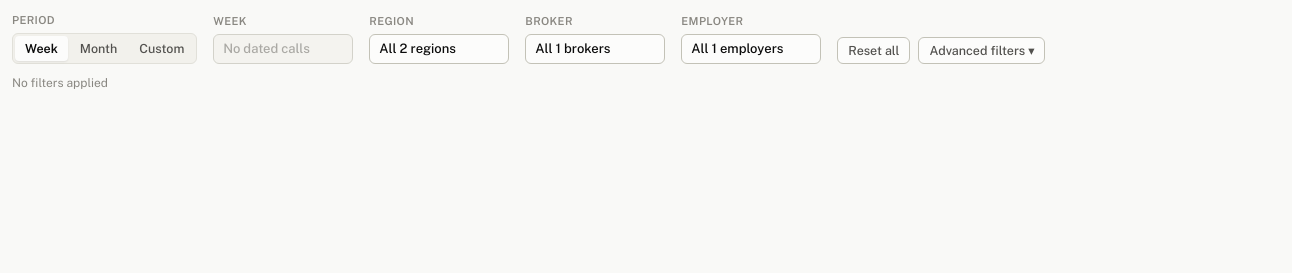
Test case: FilterBar › keeps first-contact-only distinct from unset
The image size is (1292, 273).
Click the button "Advanced filters ▾" at [982, 50], box [918,36,1045,64]
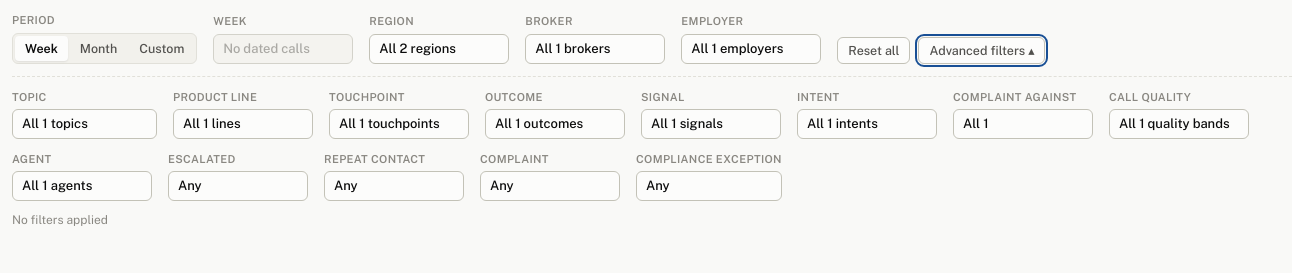
Select "First contact only" in the dropdown labelled "Repeat contact" at [394, 186], box [324,171,464,201]
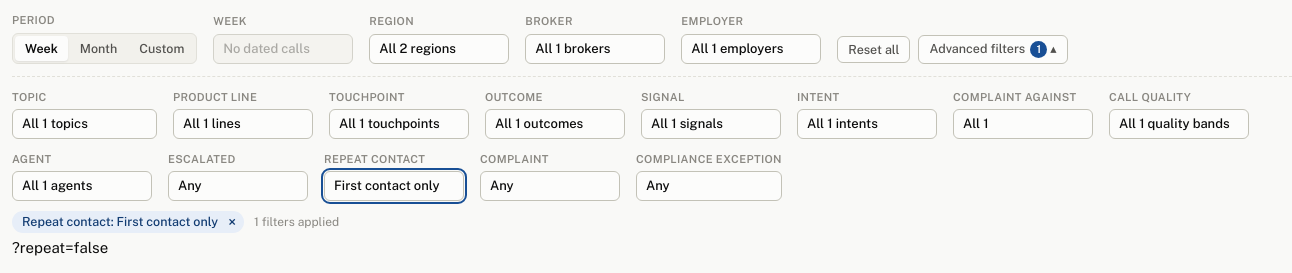
Expected: the text with test id "address" shows "repeat=false", [12,239,108,256]
Expected: the text "Repeat contact: First contact only ×" is shown, [12,211,244,233]
